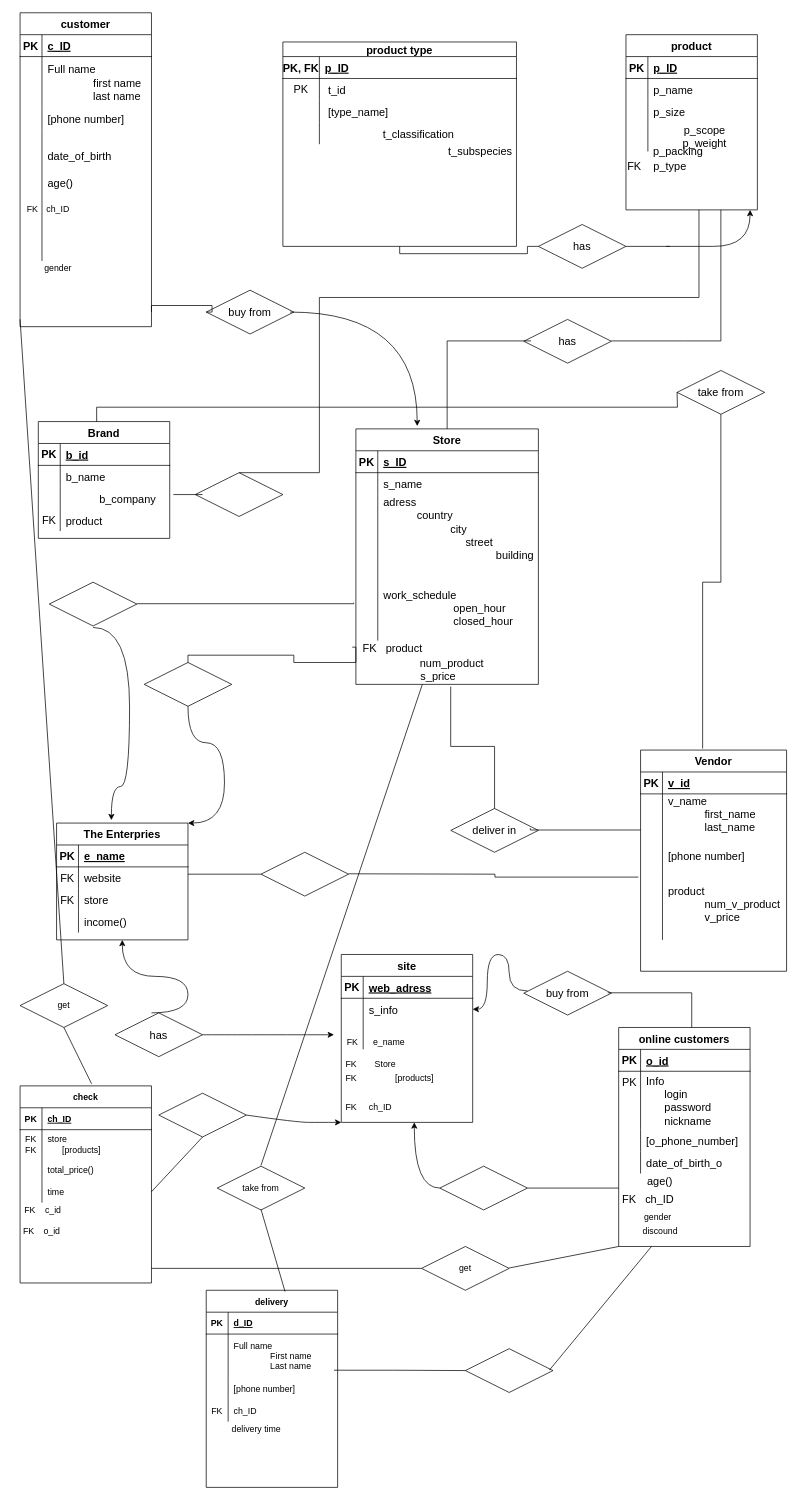
Image size: 799x1500. Some labels were removed from this diagram. Each missing label, with the centre of its shape:
bring profit: the point at 93,603
cooperate: the point at 304,874
deliver: the point at 509,1370
enter: the point at 187,684
produce: the point at 239,494
registered: the point at 483,1187
save info: the point at 202,1114
